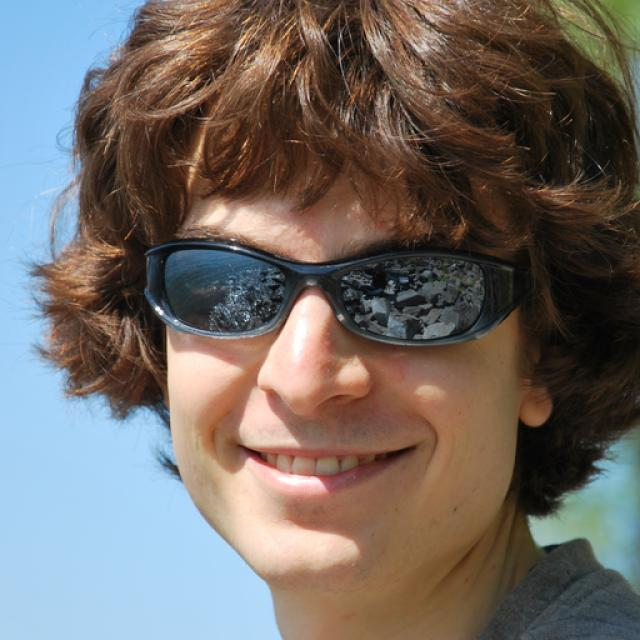happy: (165, 147, 520, 592)
